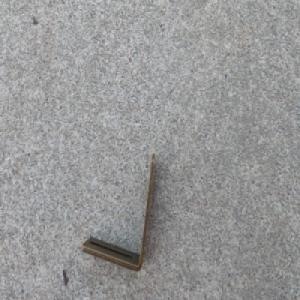MetalPart: (80, 151, 157, 273)
